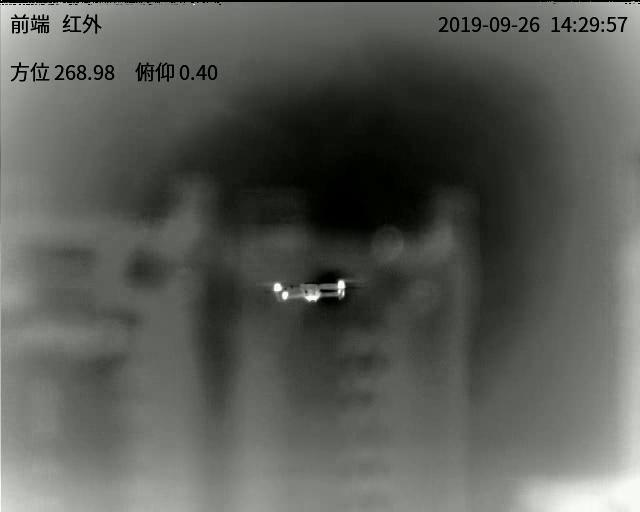DRONE: (272, 278, 347, 306)
